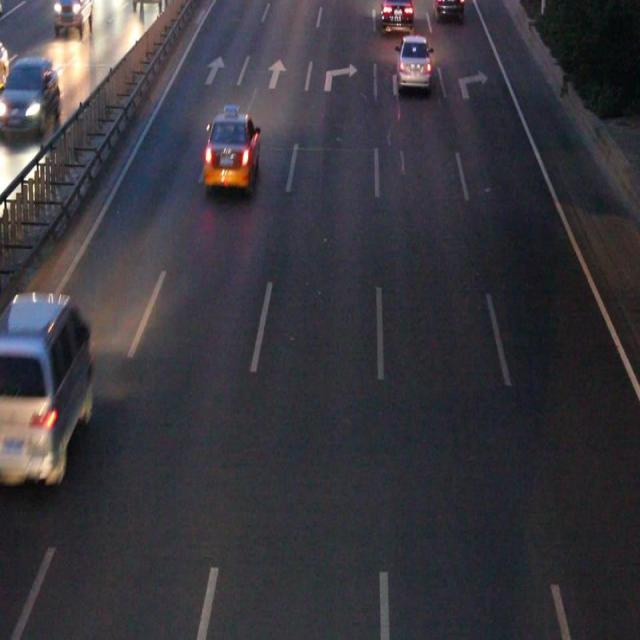car: (205, 116, 259, 187), (397, 38, 430, 88), (381, 1, 412, 30), (434, 1, 462, 19)
truck: (1, 294, 91, 480)
